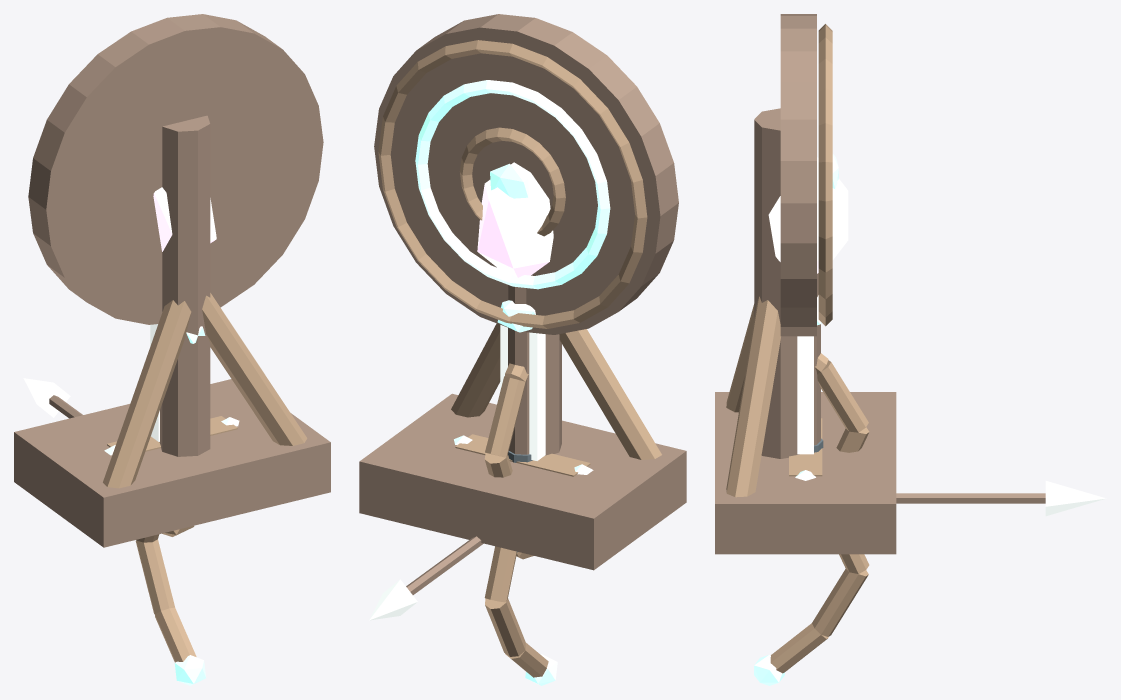
The model's file is kamp.glb.
3 renders of one model, left to right at view 1: azimuth 30°, elevation 25°; view 2: azimuth 150°, elevation 25°; view 3: azimuth 270°, elevation 25°, orthographic. The views are drawn at different scales.
Visible parts, largest first — view 1: træningsskive_træ, træningsskive_kobber, kampbue_kobber, kampstav_violet, kampbue_turkis, kamppil_klinge, kampsværd_kobber; view 2: træningsskive_træ, træningsskive_kobber, træningsskive_turkis, kampbue_kobber, kampstav_violet, kampsværd_klinge, kampstav_træ, kampsværd_kobber, kamppil_klinge, kamppil_træ, kampstav_turkis; view 3: træningsskive_træ, træningsskive_kobber, kampbue_kobber, kampsværd_klinge, kampstav_violet, kamppil_træ, kamppil_klinge, kampsværd_kobber, kampstav_træ, kampbue_turkis.
Part boxes in pixels (x1,y1,x2,y2): træningsskive_træ: [14, 14, 330, 547]; træningsskive_kobber: [103, 293, 307, 488]; kampbue_kobber: [135, 534, 196, 662]; kampstav_violet: [153, 187, 216, 251]; kampbue_turkis: [174, 326, 205, 685]; kamppil_klinge: [23, 378, 70, 417]; kampsværd_kobber: [107, 416, 237, 536]; træningsskive_træ: [359, 14, 686, 570]; træningsskive_kobber: [378, 40, 661, 459]; træningsskive_turkis: [415, 80, 610, 289]; kampbue_kobber: [484, 363, 548, 677]; kampstav_violet: [477, 162, 553, 277]; kampsværd_klinge: [500, 325, 545, 460]; kampstav_træ: [508, 285, 529, 454]; kampsværd_kobber: [455, 434, 590, 559]; kamppil_klinge: [369, 579, 417, 620]; kamppil_træ: [406, 536, 483, 594]; kampstav_turkis: [497, 300, 535, 332]; træningsskive_træ: [715, 14, 896, 554]; træningsskive_kobber: [726, 24, 832, 497]; kampbue_kobber: [770, 353, 869, 673]; kampsværd_klinge: [797, 336, 813, 454]; kampstav_violet: [768, 157, 848, 273]; kamppil_træ: [896, 493, 1045, 503]; kamppil_klinge: [1045, 481, 1106, 516]; kampsværd_kobber: [789, 418, 822, 476]; kampstav_træ: [814, 273, 820, 445]; kampbue_turkis: [754, 654, 784, 685].
Bounding box in the file's own units: 1.16 × 2.6 × 1.41.
